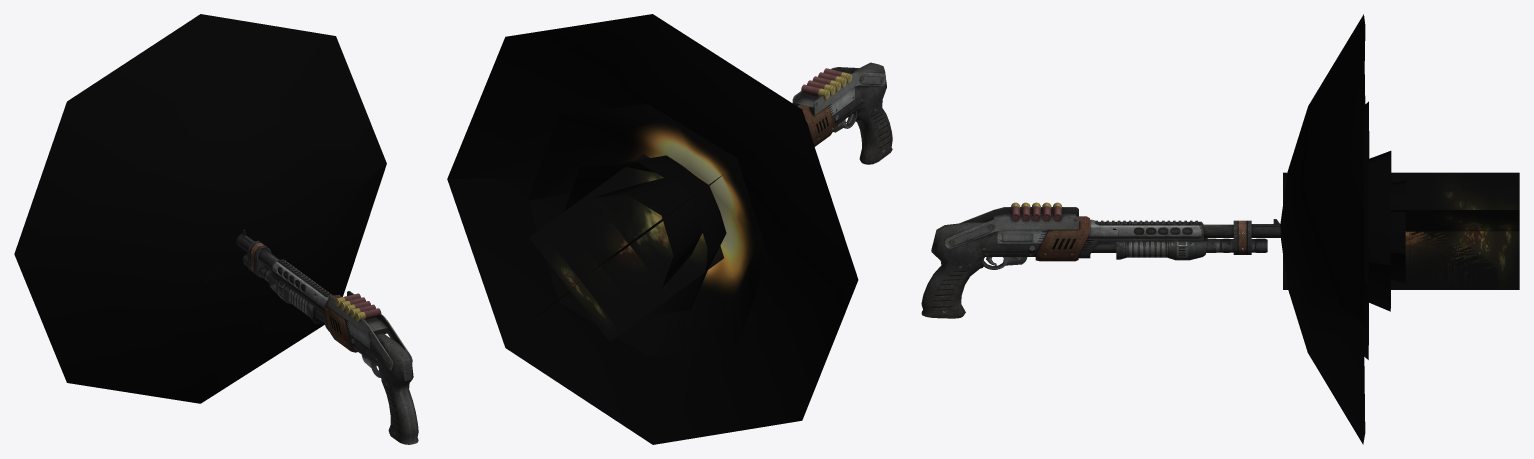
Rendered from TP_Disposition.DAE.
3 renders of one model, left to right at view 1: azimuth 30°, elevation 25°; view 2: azimuth 150°, elevation 25°; view 3: azimuth 270°, elevation 25°, orthographic. The views are drawn at different scales.
Parts seen in each view (by area): view 1: Disposition_MuzzleFlash4_LOD300, Disposition_LOD100, Disposition_LOD300, Disposition_LOD200; view 2: Disposition_MuzzleFlash4_LOD300, Disposition_MuzzleFlash3_LOD300, Disposition_MuzzleFlash2_LOD300, Disposition_MuzzleFlash1_LOD300, Disposition_LOD300, Disposition_LOD100, Disposition_LOD200; view 3: Disposition_MuzzleFlash4_LOD300, Disposition_LOD100, Disposition_LOD300, Disposition_MuzzleFlash1_LOD300, Disposition_MuzzleFlash2_LOD300, Disposition_LOD200, Disposition_MuzzleFlash3_LOD300.
Part boxes in pixels (bbox=[...]): Disposition_MuzzleFlash4_LOD300: bbox=[14, 14, 386, 403]; Disposition_LOD100: bbox=[237, 230, 418, 444]; Disposition_LOD300: bbox=[236, 232, 417, 444]; Disposition_LOD200: bbox=[236, 235, 381, 366]; Disposition_MuzzleFlash4_LOD300: bbox=[447, 14, 858, 444]; Disposition_MuzzleFlash3_LOD300: bbox=[528, 104, 768, 356]; Disposition_MuzzleFlash2_LOD300: bbox=[560, 155, 726, 318]; Disposition_MuzzleFlash1_LOD300: bbox=[541, 178, 702, 332]; Disposition_LOD300: bbox=[792, 62, 892, 164]; Disposition_LOD100: bbox=[794, 64, 892, 164]; Disposition_LOD200: bbox=[801, 68, 852, 132]; Disposition_MuzzleFlash4_LOD300: bbox=[1280, 14, 1519, 444]; Disposition_LOD100: bbox=[922, 202, 1280, 318]; Disposition_LOD300: bbox=[921, 202, 1280, 318]; Disposition_MuzzleFlash1_LOD300: bbox=[1283, 173, 1497, 289]; Disposition_MuzzleFlash2_LOD300: bbox=[1283, 151, 1391, 311]; Disposition_LOD200: bbox=[950, 203, 1280, 264]; Disposition_MuzzleFlash3_LOD300: bbox=[1283, 101, 1369, 359].
Size of what is drawn, in the model's own units: 1.1 by 1.47 by 1.1.
